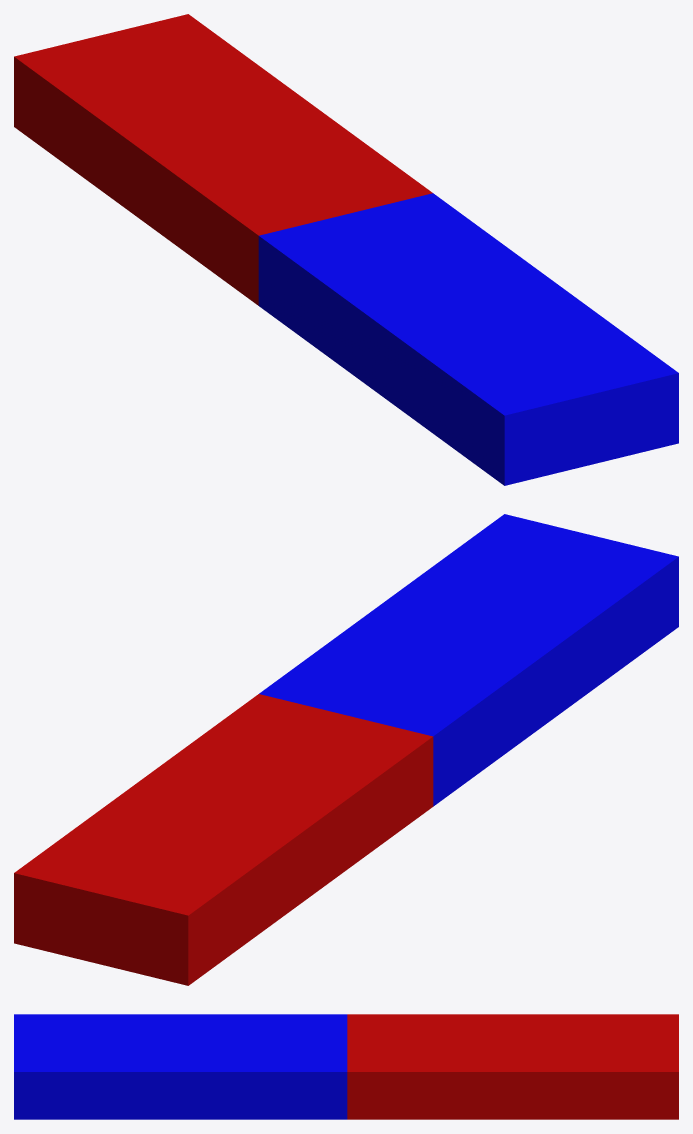
Rendered from solomagnet.fbx.
3 renders of one model, top to bottom at view 1: azimuth 30°, elevation 25°; view 2: azimuth 150°, elevation 25°; view 3: azimuth 270°, elevation 25°, orthographic. The views are drawn at different scales.
Visible parts, largest first — view 1: magnet.001; view 2: magnet.001; view 3: magnet.001.
Boxes of the visible parts, x1,y1,x2,y2 form: magnet.001: (14,14,678,485); magnet.001: (14,514,678,985); magnet.001: (14,1014,678,1119).
Size of the model in its own units: 47.22 by 18.19 by 230.
